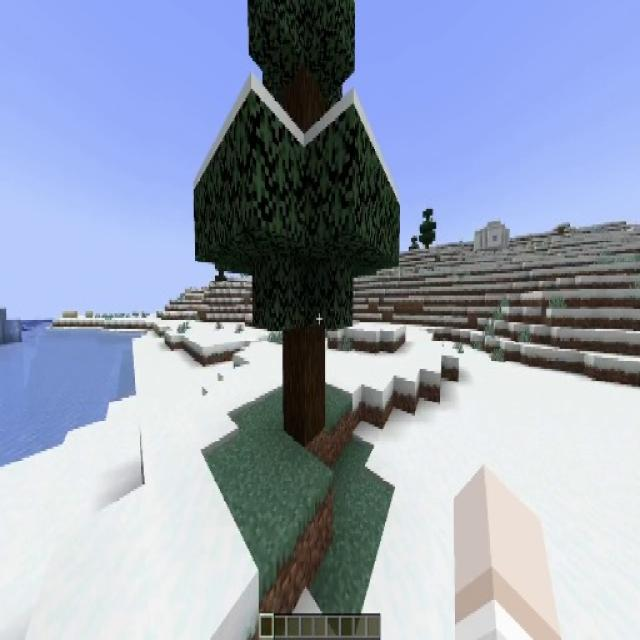spruce: (192, 0, 401, 446)
spruce_log: (282, 327, 324, 445), (421, 207, 436, 251)
